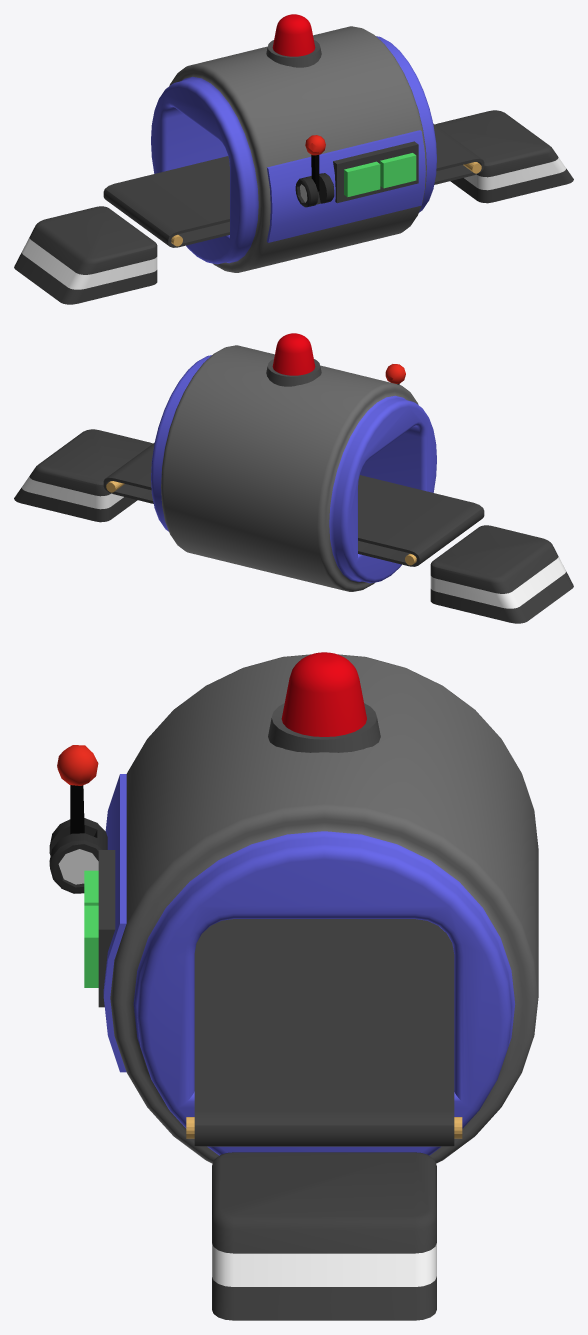
Rendered from makina3.fbx.
3 views of the same model, one above another, from view 1: azimuth 30°, elevation 25°; view 2: azimuth 150°, elevation 25°; view 3: azimuth 270°, elevation 25° (orthographic). The views are drawn at different scales.
Parts seen in each view (by area): view 1: govde, stack.005, palet.001, lamba, kol; view 2: govde, stack.005, palet.001, lamba; view 3: govde, palet.001, stack.005, lamba, kol.
Boxes of the visible parts, left/top/right/bottom form: govde: left=151, top=26, right=436, bottom=272; stack.005: left=14, top=110, right=573, bottom=304; palet.001: left=103, top=124, right=484, bottom=247; lamba: left=266, top=14, right=321, bottom=67; kol: left=305, top=135, right=325, bottom=191; govde: left=151, top=345, right=436, bottom=591; stack.005: left=14, top=429, right=573, bottom=623; palet.001: left=103, top=443, right=484, bottom=566; lamba: left=266, top=333, right=321, bottom=386; govde: left=49, top=654, right=538, bottom=1163; palet.001: left=186, top=919, right=462, bottom=1146; stack.005: left=212, top=1152, right=436, bottom=1320; lamba: left=268, top=652, right=380, bottom=752; kol: left=57, top=745, right=98, bottom=834.
Bounding box in the file's own units: 611 × 262 × 253.
